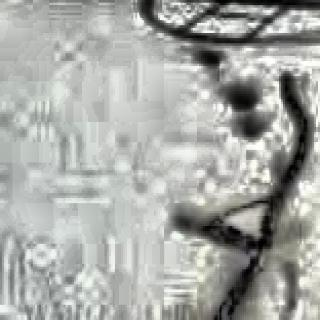crack: (194, 60, 308, 320)
